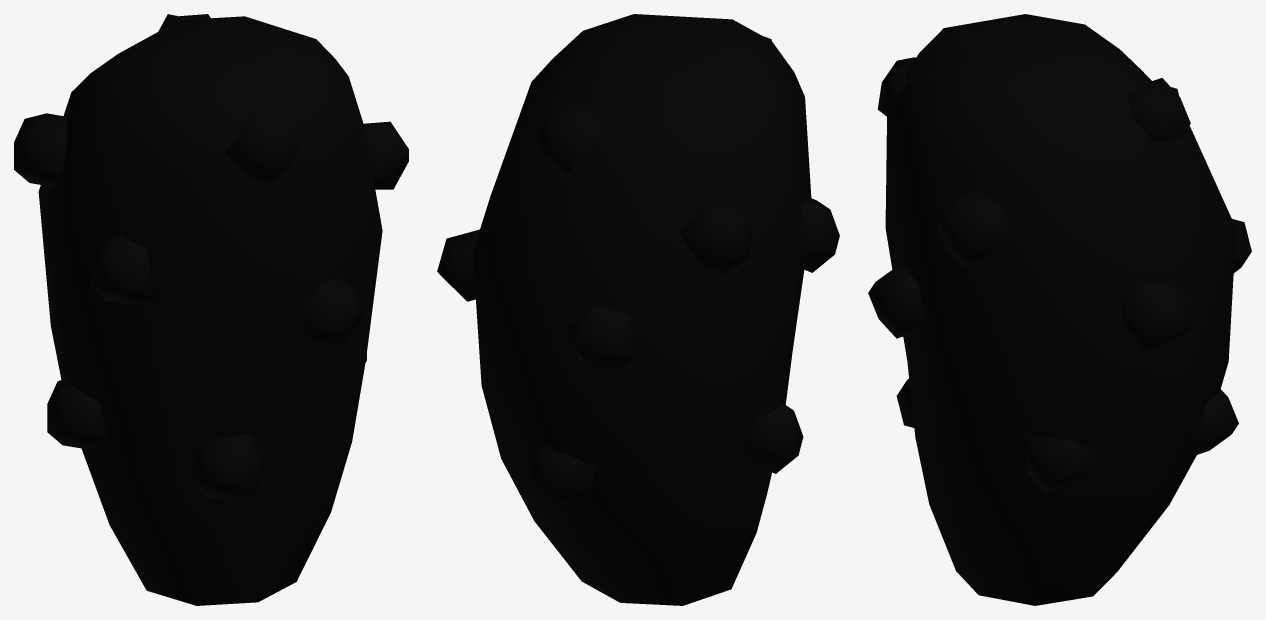
File: Cacto5.fbx
3 views of the same model, side by side, from view 1: azimuth 30°, elevation 25°; view 2: azimuth 150°, elevation 25°; view 3: azimuth 270°, elevation 25° (orthographic).
Visible parts, largest first — view 1: LOD_0; view 2: LOD_0; view 3: LOD_0.
Part boxes in pixels (box(x1,y1,x2,y2)): LOD_0: box(14, 14, 408, 605); LOD_0: box(437, 14, 839, 605); LOD_0: box(868, 14, 1251, 605).
Size of what is drawn, in the model's own units: 35.75 by 57.4 by 37.87.
